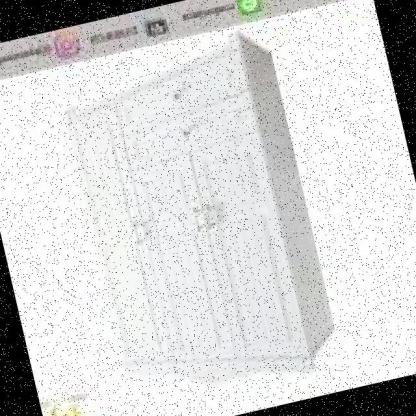Closet: (51, 28, 349, 416)
